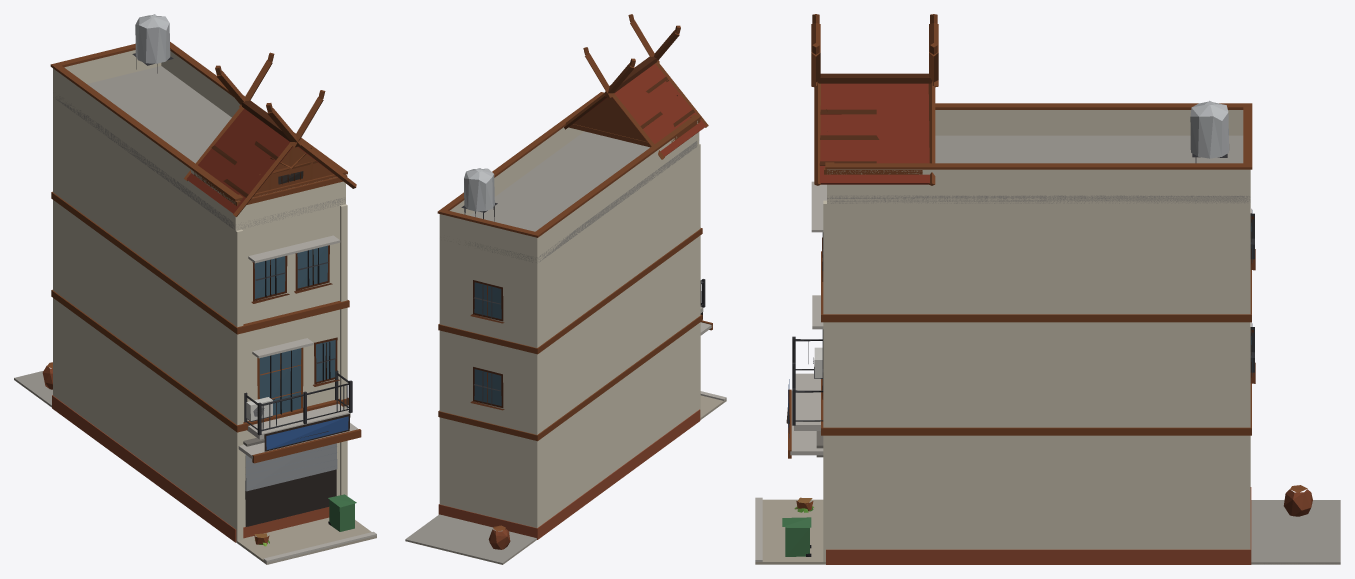
Rendered from bay2_mid.glb.
3 renders of one model, left to right at view 1: azimuth 30°, elevation 25°; view 2: azimuth 150°, elevation 25°; view 3: azimuth 270°, elevation 25°, orthographic. The views are drawn at different scales.
Parts seen in each view (by area): view 1: body, windows; view 2: body, windows; view 3: body.
Boxes of the visible parts, x1,y1,x2,y2 form: body: (14, 14, 376, 564); windows: (245, 171, 336, 526); body: (405, 14, 726, 564); windows: (474, 282, 501, 405); body: (755, 14, 1340, 564).
Bounding box in the file's own units: 4.49 × 15.41 × 15.9.
